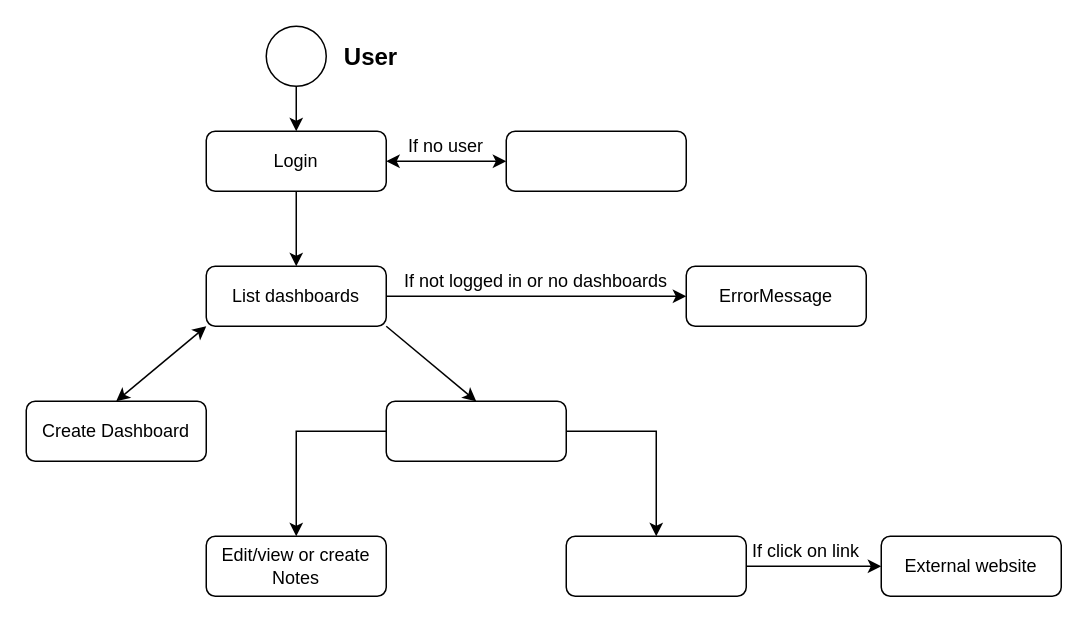
Image size: 1088x623. Some labels were removed from this diagram. The box of each missing label's shape, as (x1, y1, x2, y2) in pixels:
Create User: (505, 130, 686, 191)
Edit/view or create Links: (565, 535, 746, 596)
View dashboard: (385, 400, 566, 461)
